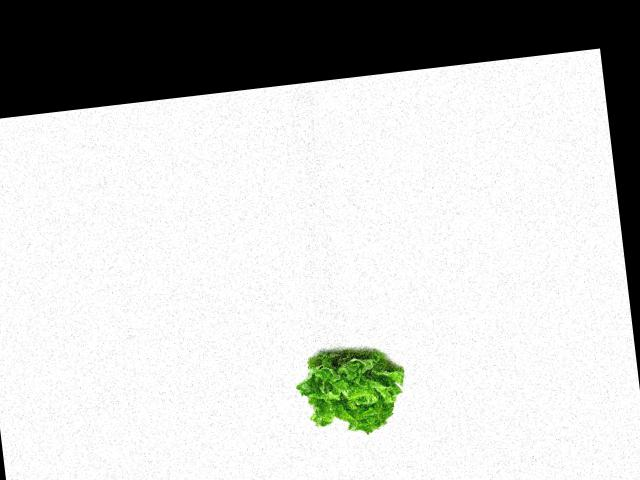lettuce: (293, 341, 408, 440)
